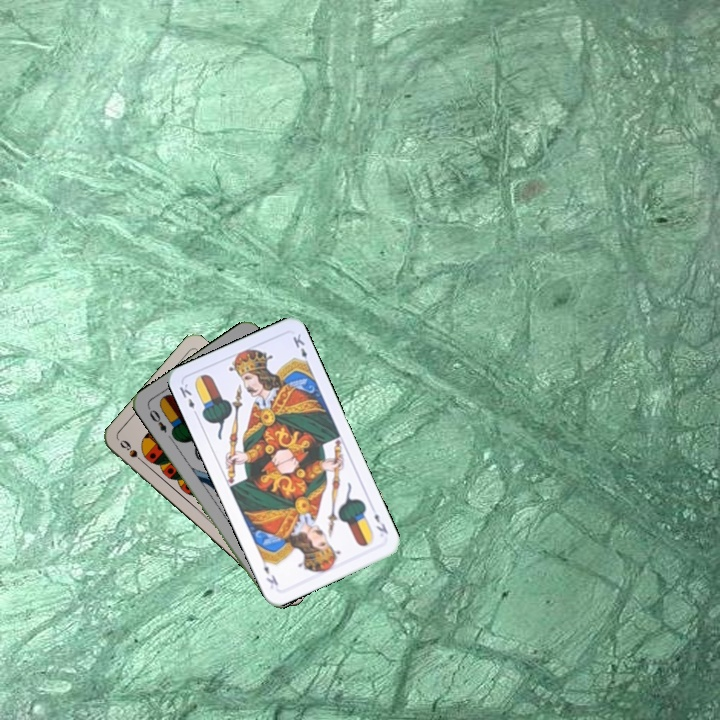EK: (175, 379, 201, 419), (370, 509, 391, 536)
EO: (145, 405, 169, 435)
S9: (115, 436, 149, 467)
